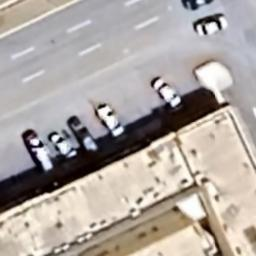sedan: (152, 76, 186, 112), (96, 102, 124, 140), (194, 13, 230, 36), (50, 133, 76, 160), (180, 0, 218, 11)
truck: (24, 130, 54, 174), (70, 114, 98, 155)
